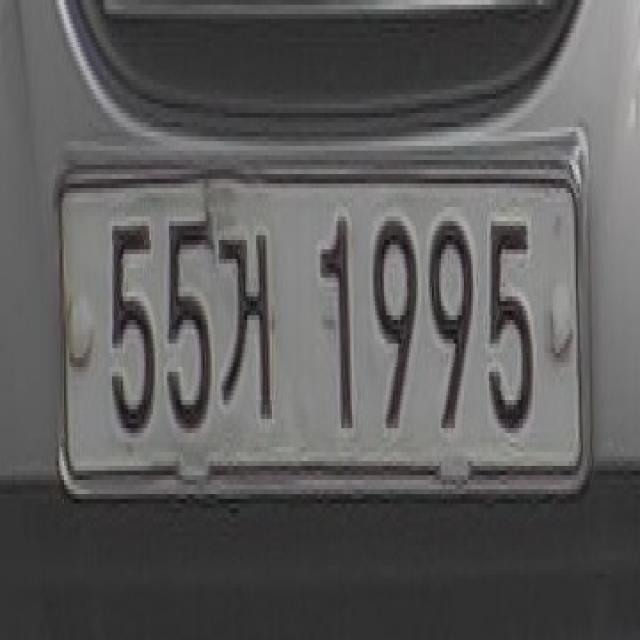1: (315, 199, 358, 437)
5: (482, 200, 539, 436), (162, 203, 216, 434), (105, 210, 158, 434)
9: (366, 198, 420, 438), (425, 197, 478, 438)
geo: (220, 198, 280, 436)
license_plate: (51, 118, 596, 508)
